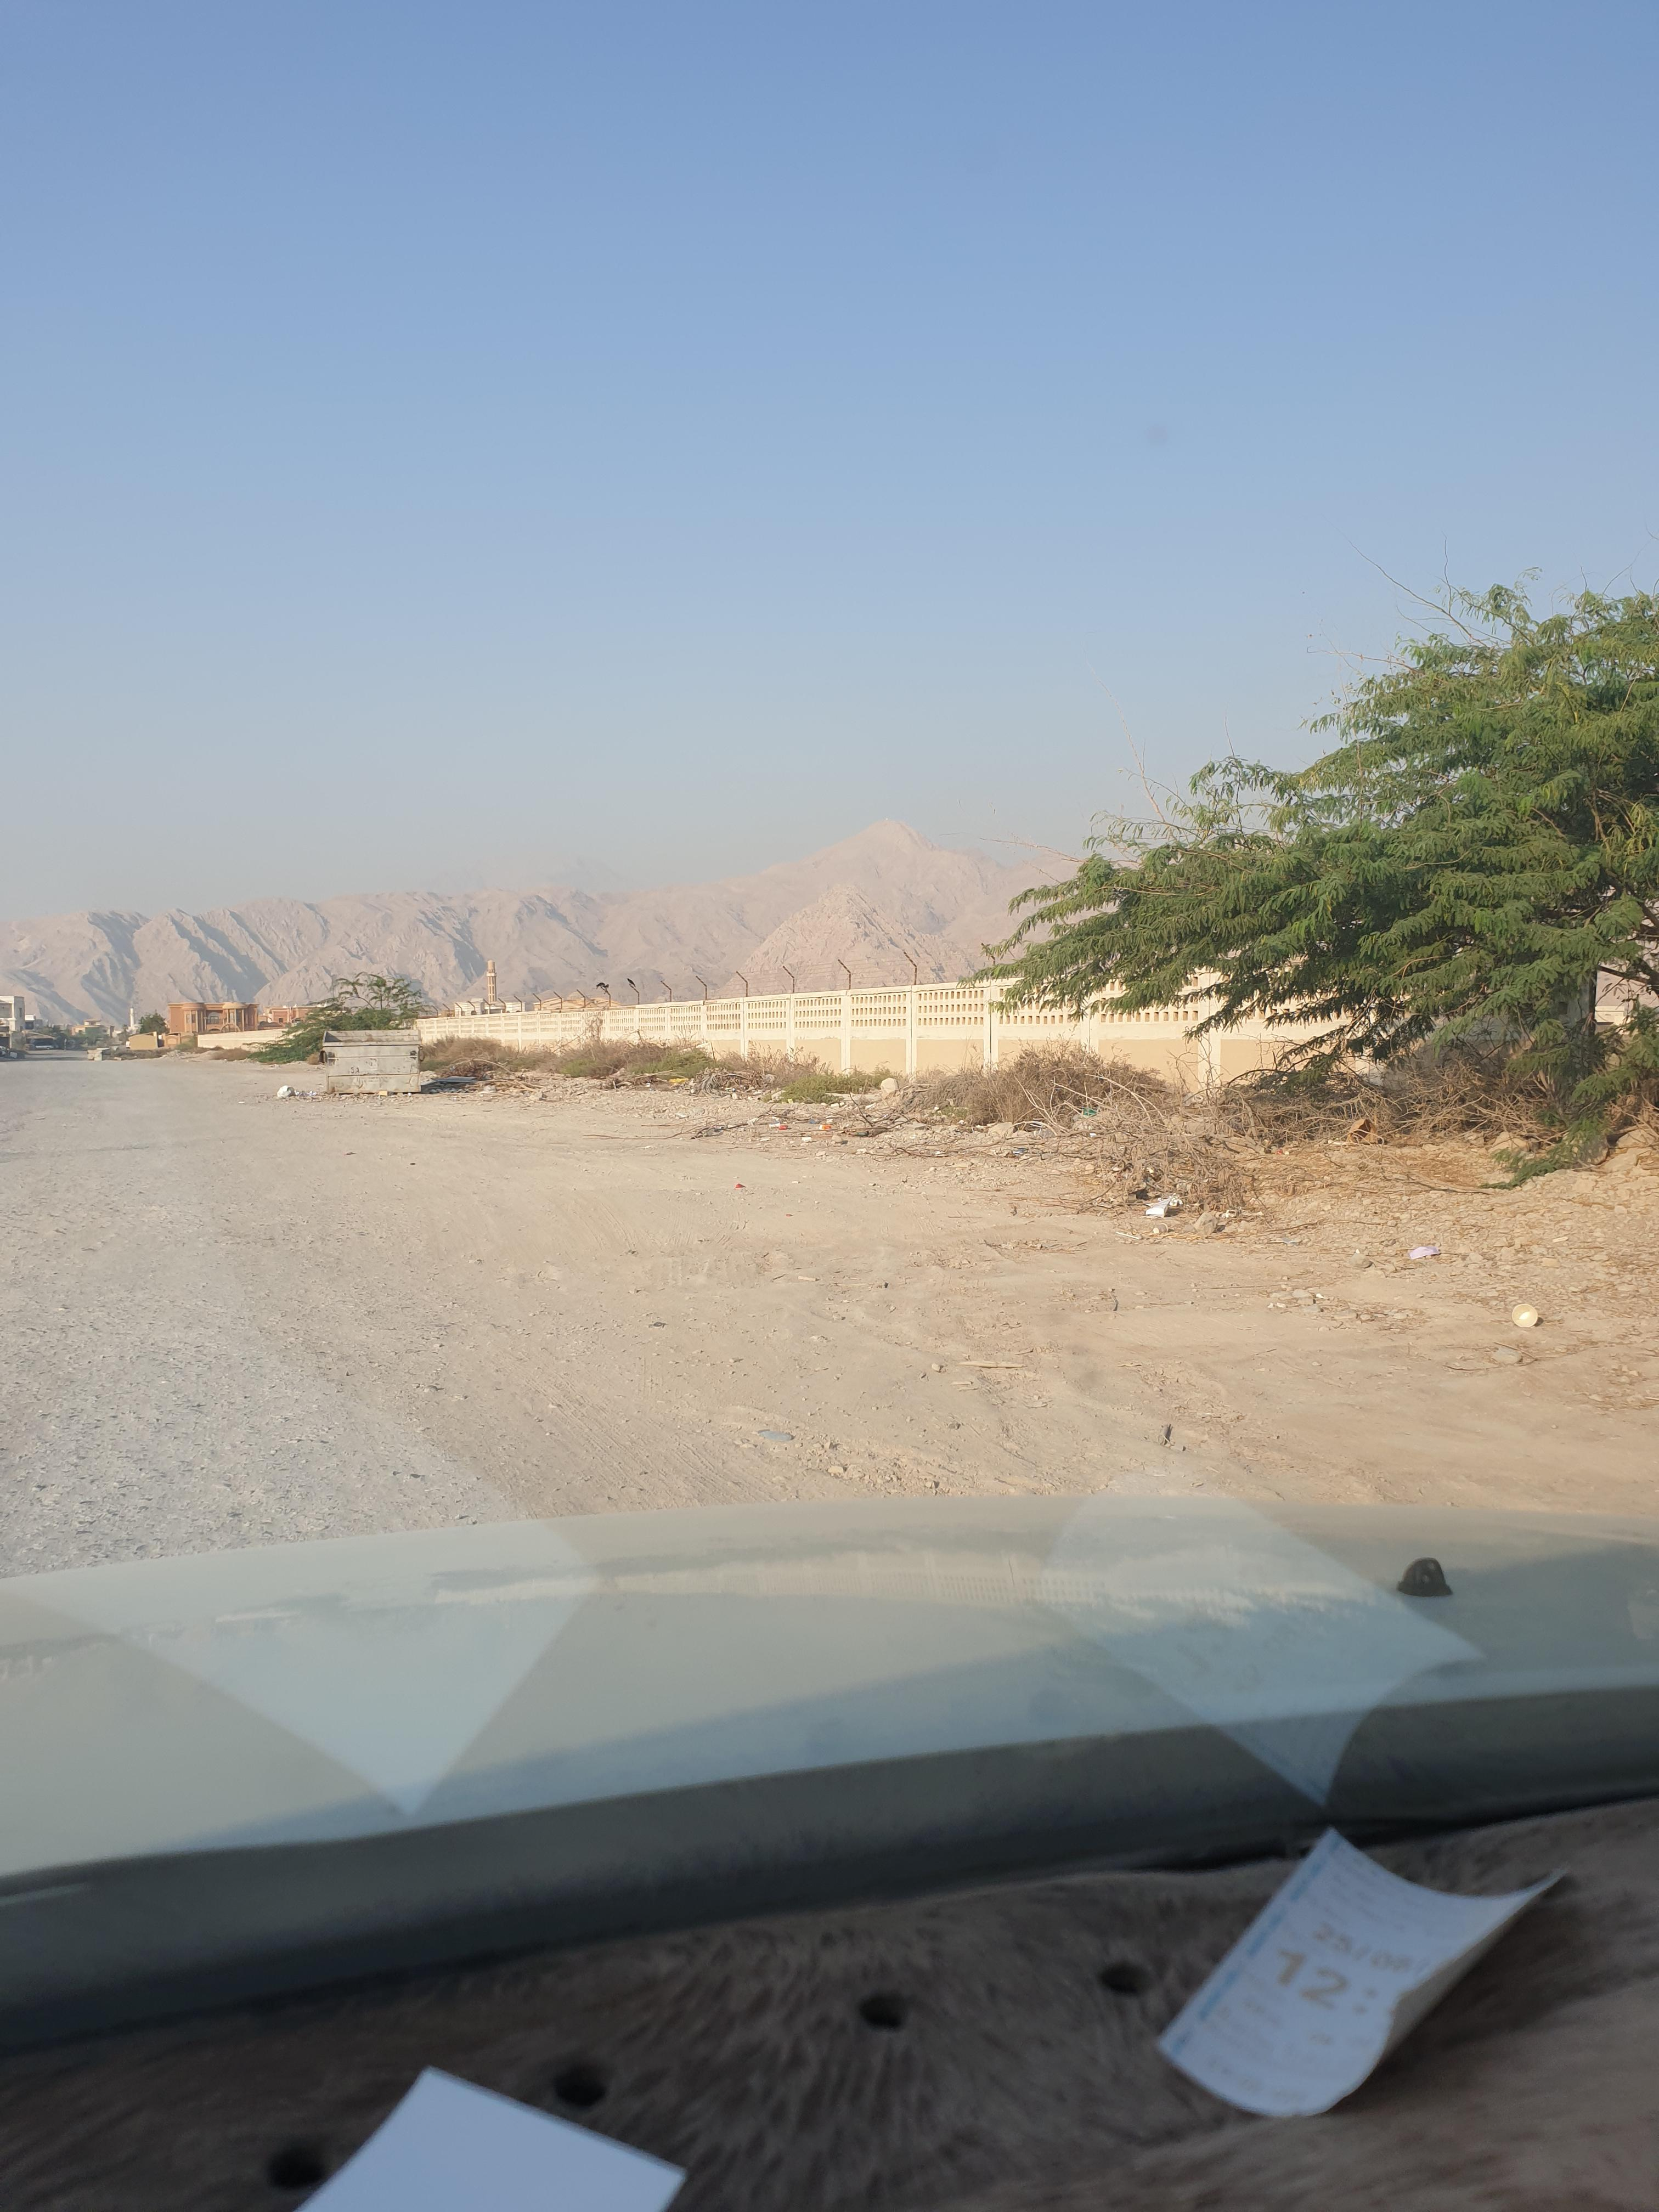fallen_trees: (1040, 1122, 1283, 1238), (845, 1130, 981, 1174), (444, 1052, 549, 1106), (643, 1120, 774, 1148), (575, 1076, 662, 1104)
